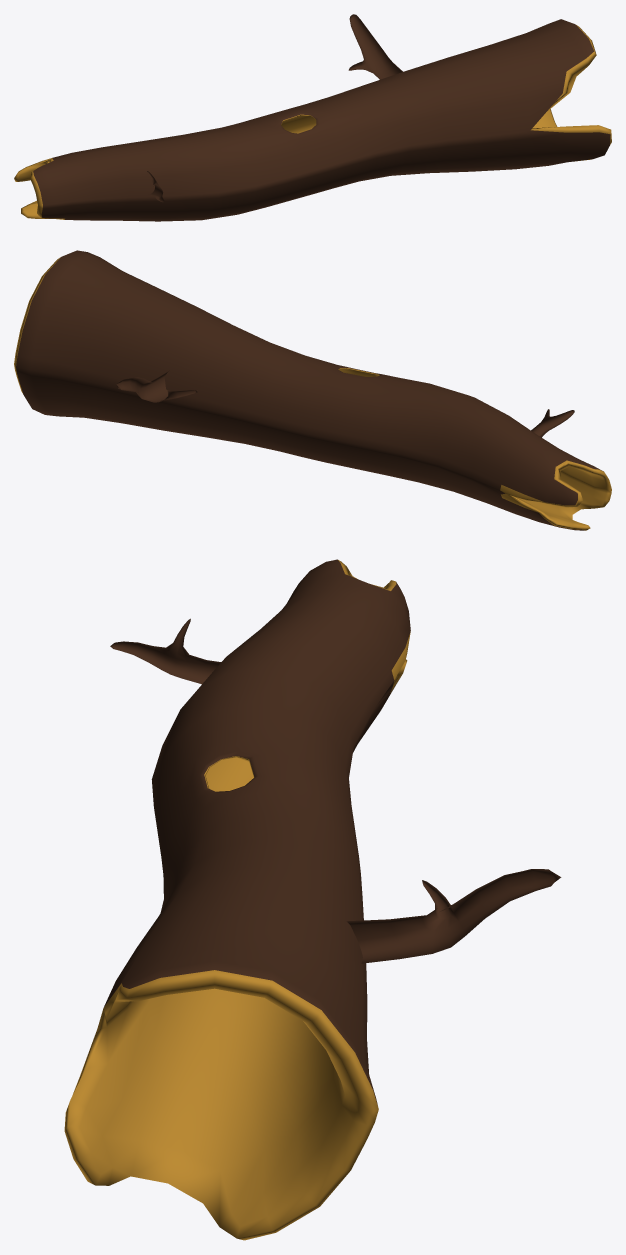
Rendered from tronco_ver1.fbx.
The picture shows the model from 3 angles, top to bottom: view 1: azimuth 30°, elevation 25°; view 2: azimuth 150°, elevation 25°; view 3: azimuth 270°, elevation 25°; orthographic projection. The views are drawn at different scales.
Parts seen in each view (by area): view 1: Círculo; view 2: Círculo; view 3: Círculo.
Boxes of the visible parts, x1,y1,x2,y2 form: Círculo: (14,14,611,221); Círculo: (14,250,611,530); Círculo: (64,559,561,1240).
Size of the model in its own units: 773 by 193 by 319.
